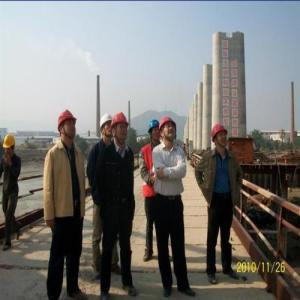blue: (147, 118, 162, 143)
red: (58, 109, 79, 143), (158, 117, 179, 145), (111, 112, 129, 143), (211, 122, 230, 151)
white: (100, 113, 116, 138)
yellow: (3, 135, 18, 156)
